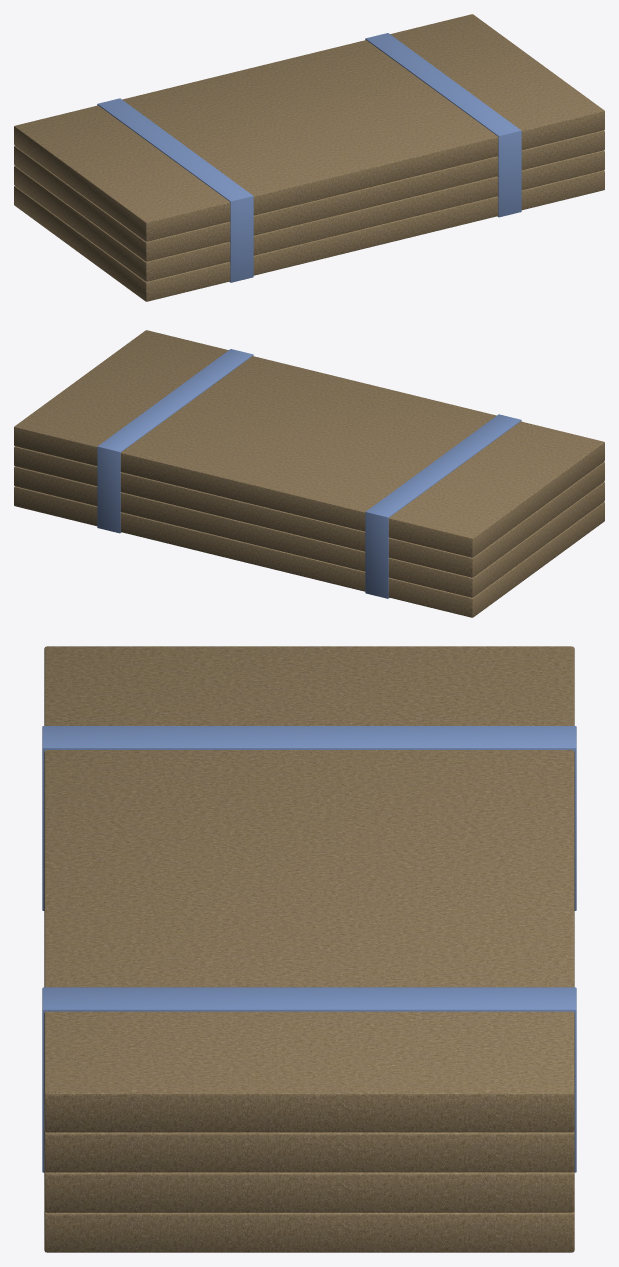
The model's file is IMP-ISO-002.glb.
3 views of the same model, one above another, from view 1: azimuth 30°, elevation 25°; view 2: azimuth 150°, elevation 25°; view 3: azimuth 270°, elevation 25° (orthographic). The views are drawn at different scales.
Visible parts, largest first — view 1: IMP-ISO-002_placa3, IMP-ISO-002_placa1, IMP-ISO-002_placa2, IMP-ISO-002_placa0, IMP-ISO-002_cinta0.35, IMP-ISO-002_cinta-0.35; view 2: IMP-ISO-002_placa3, IMP-ISO-002_placa1, IMP-ISO-002_placa2, IMP-ISO-002_placa0, IMP-ISO-002_cinta0.35, IMP-ISO-002_cinta-0.35; view 3: IMP-ISO-002_placa3, IMP-ISO-002_placa0, IMP-ISO-002_placa2, IMP-ISO-002_placa1, IMP-ISO-002_cinta0.35, IMP-ISO-002_cinta-0.35.
Part boxes in pixels (<box>): IMP-ISO-002_placa3: <box>14,14,604,241</box>; IMP-ISO-002_placa1: <box>14,150,604,281</box>; IMP-ISO-002_placa2: <box>14,130,604,261</box>; IMP-ISO-002_placa0: <box>14,170,604,301</box>; IMP-ISO-002_cinta0.35: <box>365,33,521,217</box>; IMP-ISO-002_cinta-0.35: <box>97,98,253,282</box>; IMP-ISO-002_placa3: <box>14,330,604,557</box>; IMP-ISO-002_placa1: <box>14,466,604,597</box>; IMP-ISO-002_placa2: <box>14,446,604,577</box>; IMP-ISO-002_placa0: <box>14,486,604,617</box>; IMP-ISO-002_cinta0.35: <box>97,349,253,533</box>; IMP-ISO-002_cinta-0.35: <box>365,414,521,598</box>; IMP-ISO-002_placa3: <box>44,646,574,1132</box>; IMP-ISO-002_placa0: <box>44,1211,574,1252</box>; IMP-ISO-002_placa2: <box>44,1130,574,1172</box>; IMP-ISO-002_placa1: <box>44,1170,574,1212</box>; IMP-ISO-002_cinta0.35: <box>42,987,576,1172</box>; IMP-ISO-002_cinta-0.35: <box>42,726,576,910</box>.
Size of the model in its own units: 1.2 by 0.204 by 0.604.
Materials: 2 (1 with a texture image).
